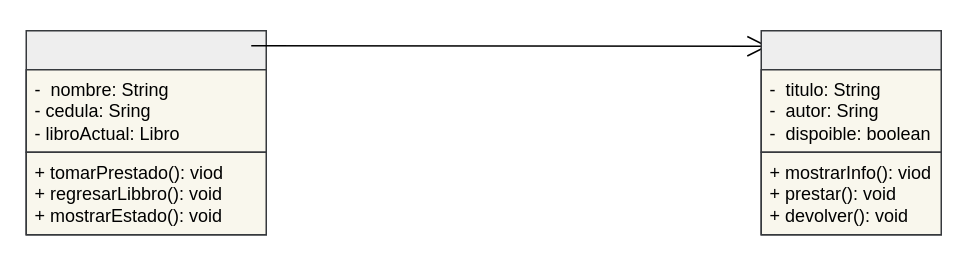
Some shapes in this 968 by 266 pixel diagram are drawn without their labels. The shapes that lost their labels are listed below. From the top down, each one's box as (x1, y1, x2, y2) in pixels, then its label:
(25, 29, 266, 235): Lector
(760, 29, 941, 235): Libro
